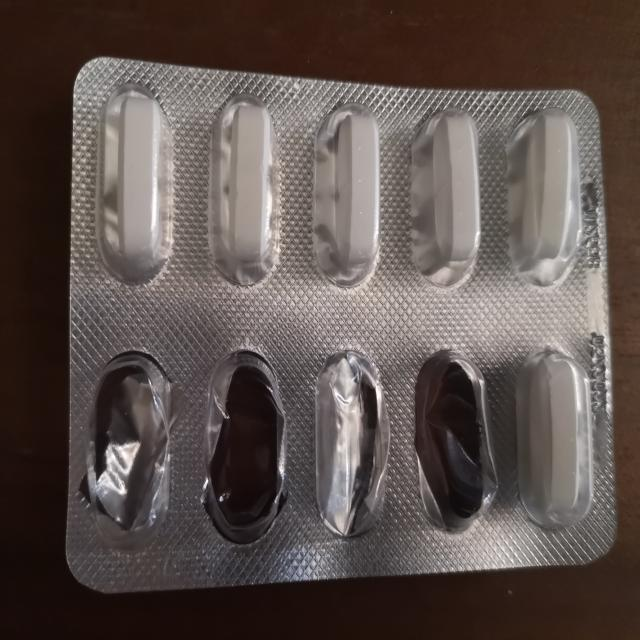Empty: (193, 340, 294, 547), (80, 343, 180, 546), (410, 337, 498, 544), (309, 335, 393, 541)
Pill: (89, 80, 180, 292), (198, 82, 286, 291), (515, 337, 600, 531), (494, 106, 583, 290), (402, 101, 484, 296), (311, 94, 388, 292)
